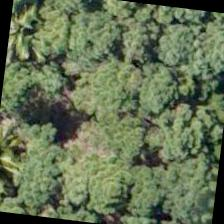Kelapa_Sawit: (4, 0, 70, 81)
